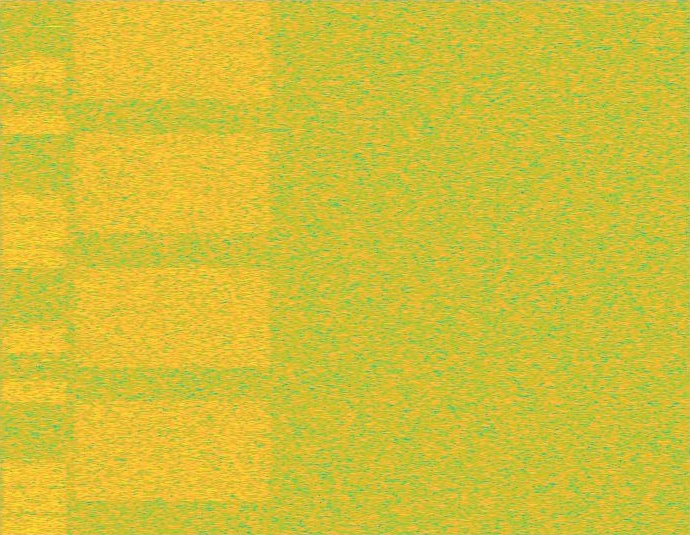5G: (69, 0, 276, 534)
LTE: (0, 0, 69, 534)
Radar: (48, 0, 62, 534)
